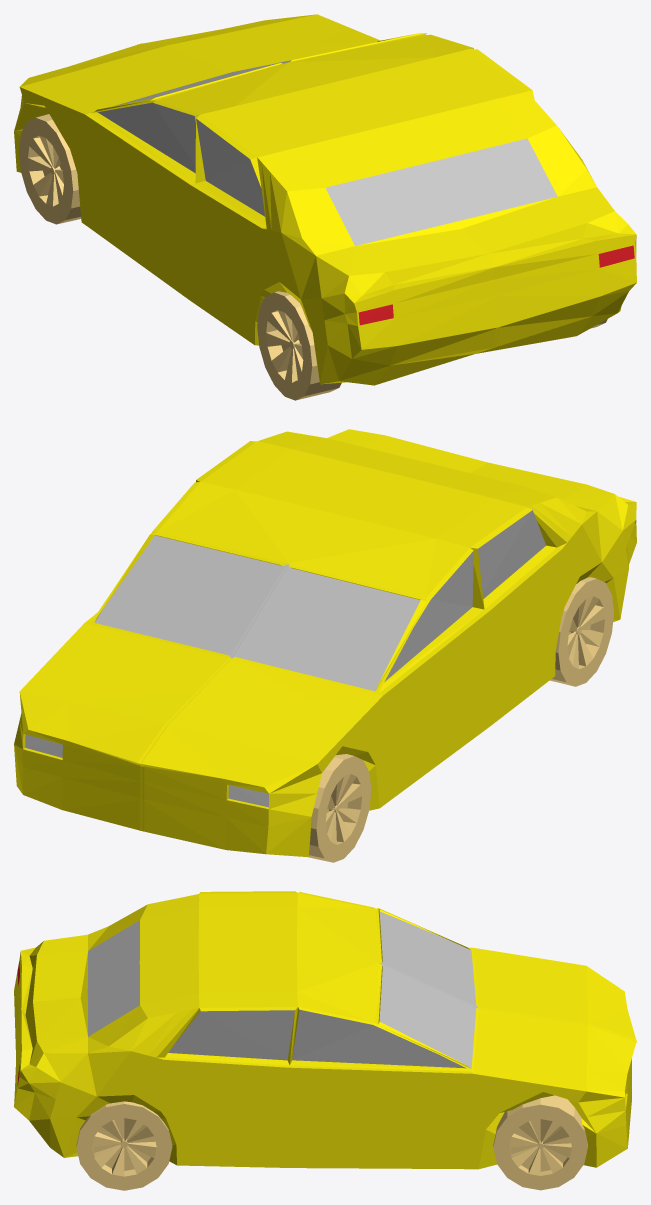
The model's file is car2.obj.
3 renders of one model, top to bottom at view 1: azimuth 30°, elevation 25°; view 2: azimuth 150°, elevation 25°; view 3: azimuth 270°, elevation 25°, orthographic. The views are drawn at different scales.
Visible parts, largest first — view 1: Cube; view 2: Cube; view 3: Cube.
Boxes of the visible parts, x1,y1,x2,y2 form: Cube: (14,14,636,400); Cube: (14,429,636,862); Cube: (14,891,636,1190).
Size of the model in its own units: 1.95 by 1.27 by 4.03.
